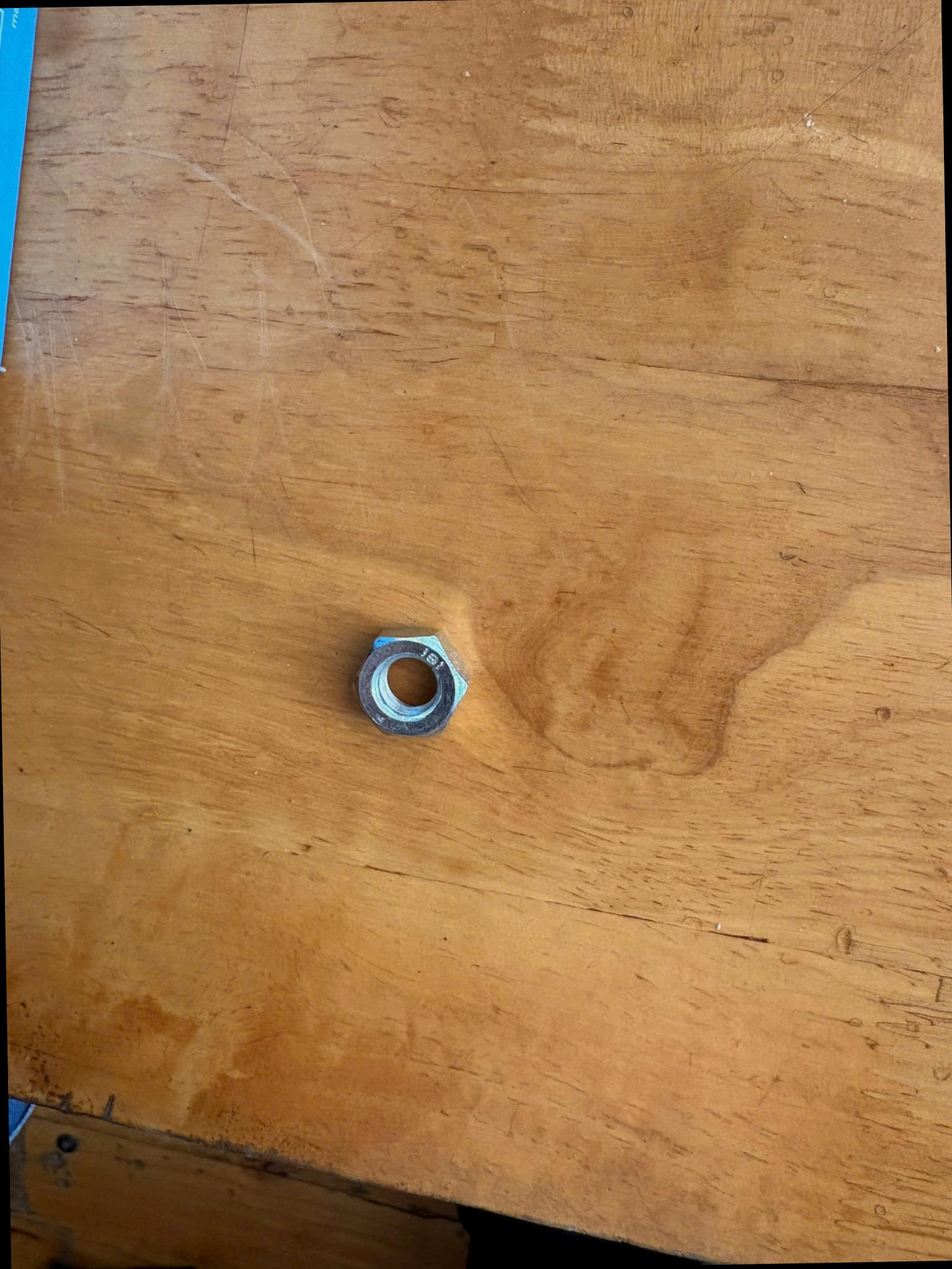nut: (334, 620, 492, 748)
